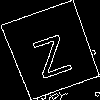Z: (26, 25, 74, 79)
